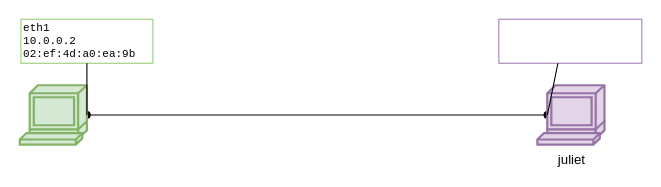
Image size: 661x187. Some labels were removed from this diagram. Each missing label, with the box of its shape:
eth1 10.10.0.101 02:dc:d5:f6:3a:04: (498, 18, 642, 63)
romeo: (18, 84, 87, 145)
